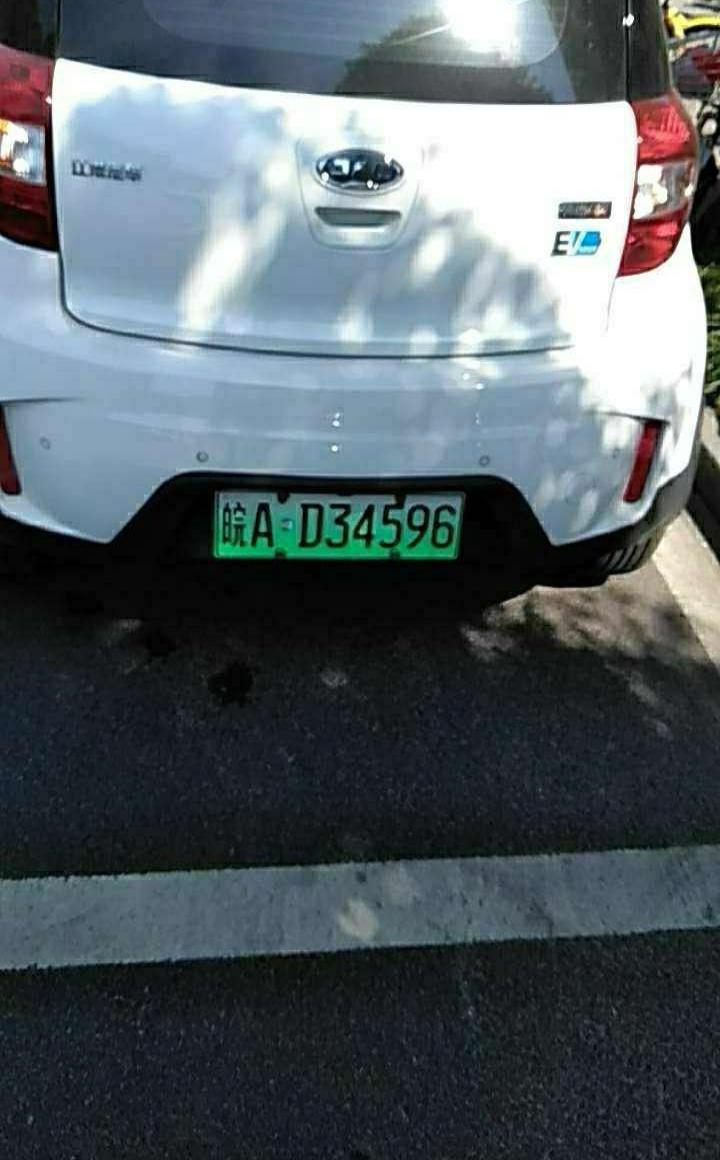car_id: (222, 488, 459, 559)
